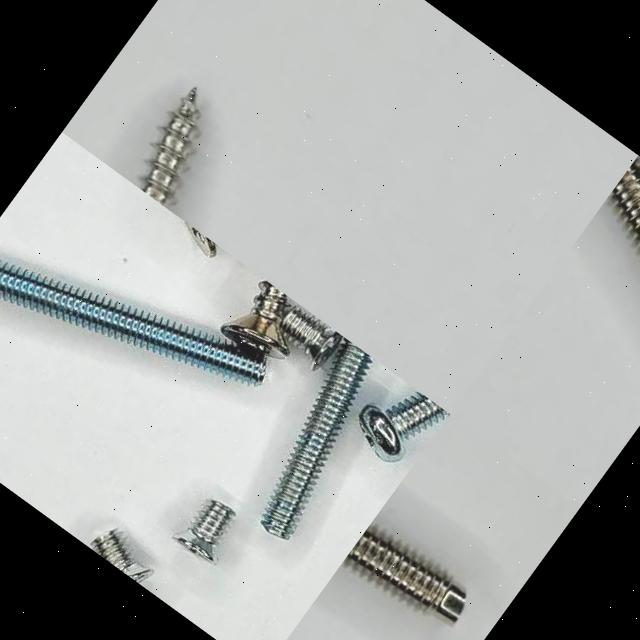Screw: (0, 260, 264, 386), (260, 337, 373, 540), (345, 523, 464, 620), (140, 87, 197, 208), (359, 392, 449, 462), (221, 279, 288, 358), (171, 500, 234, 563), (279, 307, 341, 369), (88, 530, 152, 584)
